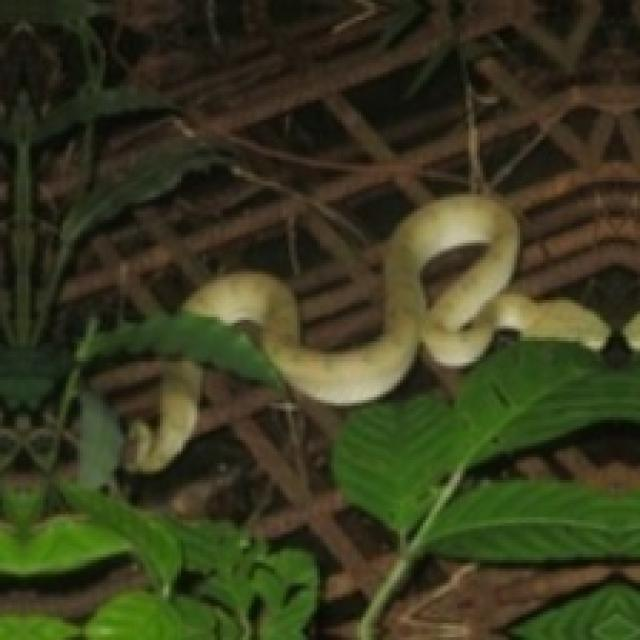north ph temple pitviper: (183, 194, 606, 403), (131, 360, 200, 471)
